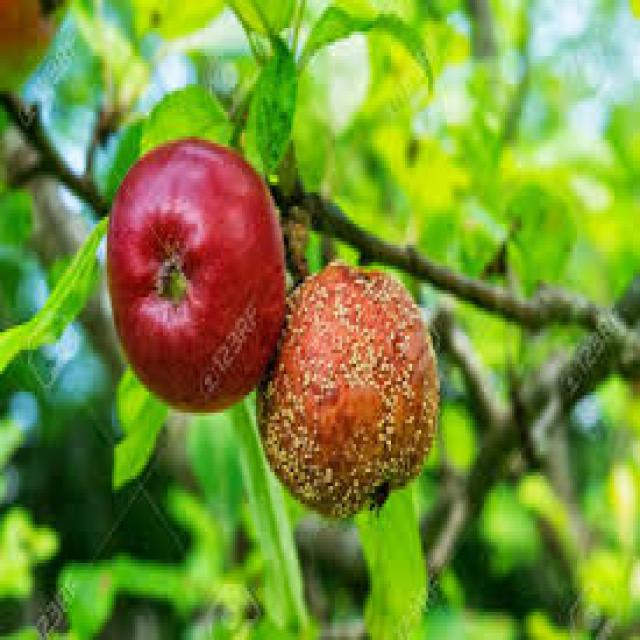Red Apple: (109, 139, 288, 414)
Rotten Apple: (259, 264, 440, 522)
